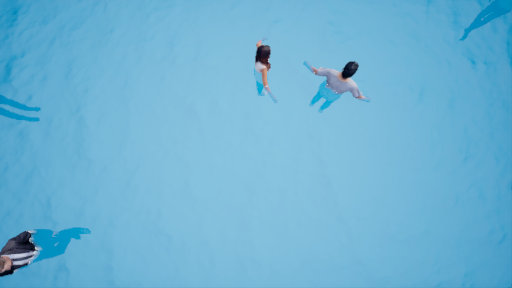person: (1, 229, 100, 277), (304, 54, 371, 118), (248, 39, 285, 111)
